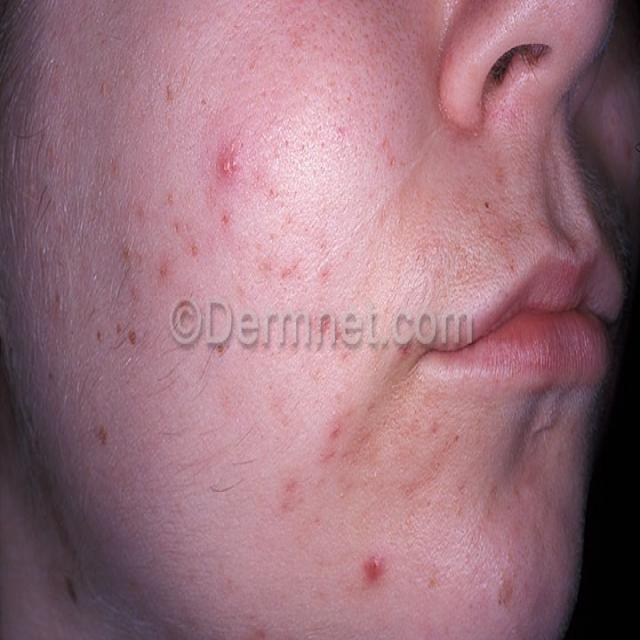Pimples: (214, 138, 243, 189), (361, 552, 386, 591), (91, 415, 112, 457), (314, 258, 336, 288), (122, 326, 144, 352), (187, 233, 204, 264), (218, 202, 234, 234), (156, 258, 170, 286), (166, 186, 178, 216), (167, 84, 172, 99)
